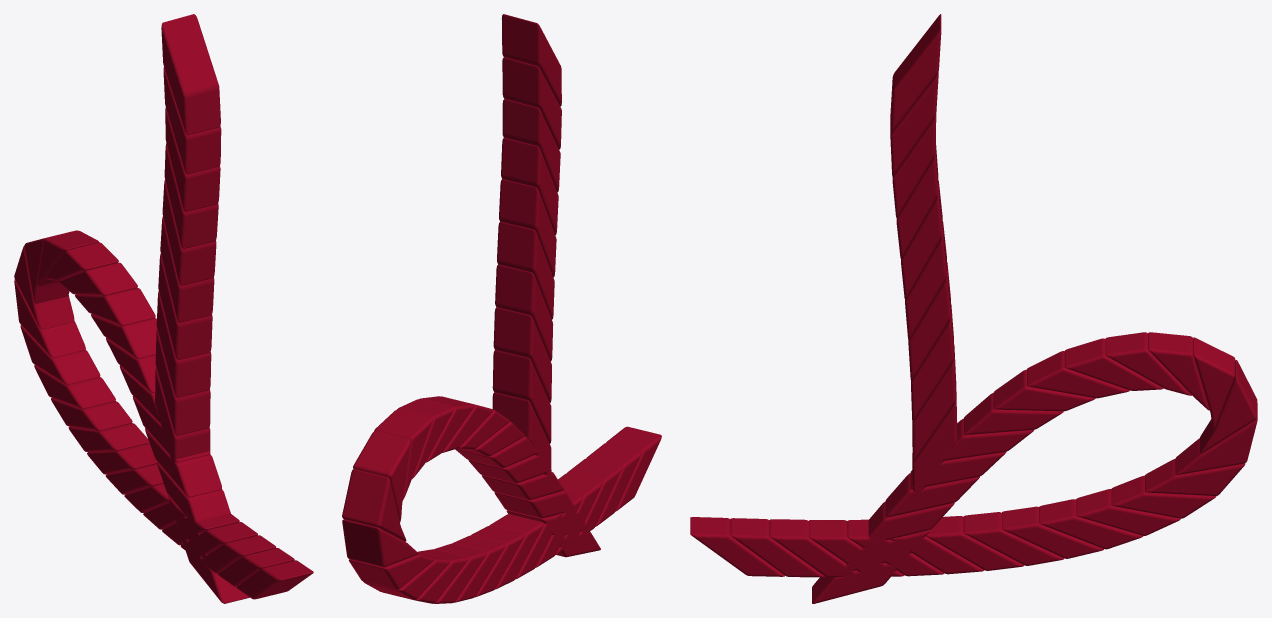
Rendered from tha.fbx.
The picture shows the model from 3 angles, left to right: view 1: azimuth 30°, elevation 25°; view 2: azimuth 150°, elevation 25°; view 3: azimuth 270°, elevation 25°; orthographic projection. The views are drawn at different scales.
Visible parts, largest first — view 1: Cube, Cube.001; view 2: Cube, Cube.001; view 3: Cube, Cube.001.
Part boxes in pixels (<box>): Cube: <box>14,230,313,603</box>; Cube.001: <box>155,14,221,463</box>; Cube: <box>342,396,661,603</box>; Cube.001: <box>492,14,561,475</box>; Cube: <box>690,332,1257,603</box>; Cube.001: <box>890,14,957,497</box>.
Size of the model in its own units: 63.3 by 847 by 759.
